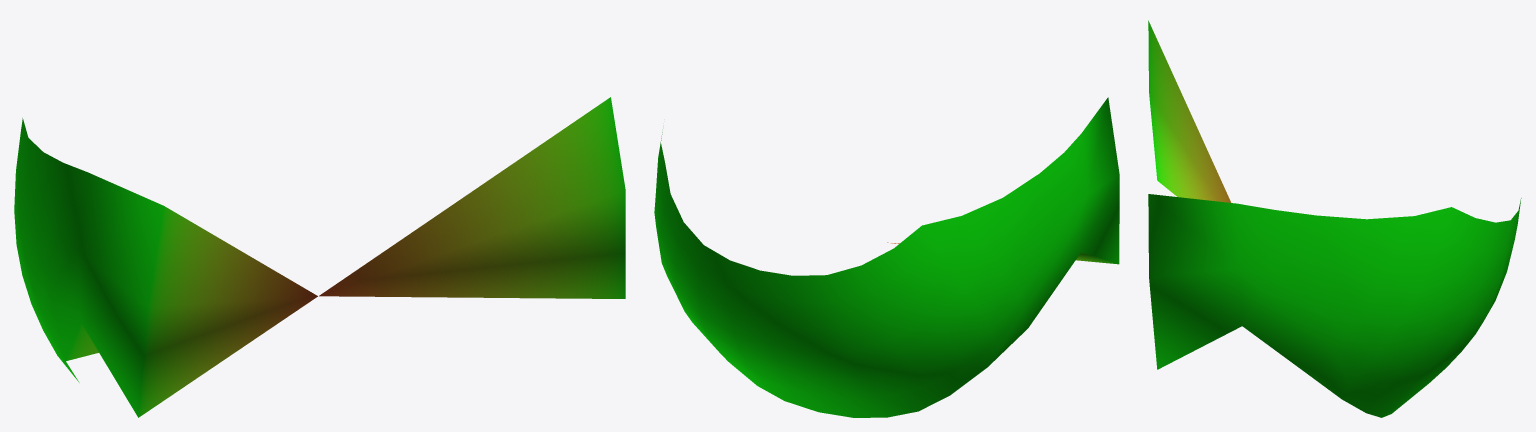
File: Hair2_59.glb
3 views of the same model, side by side, from view 1: azimuth 30°, elevation 25°; view 2: azimuth 150°, elevation 25°; view 3: azimuth 270°, elevation 25° (orthographic). The views are drawn at different scales.
Bounding box in the file's own units: 54.87 × 36.59 × 43.91.
